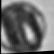correct: (0, 0, 47, 54)
